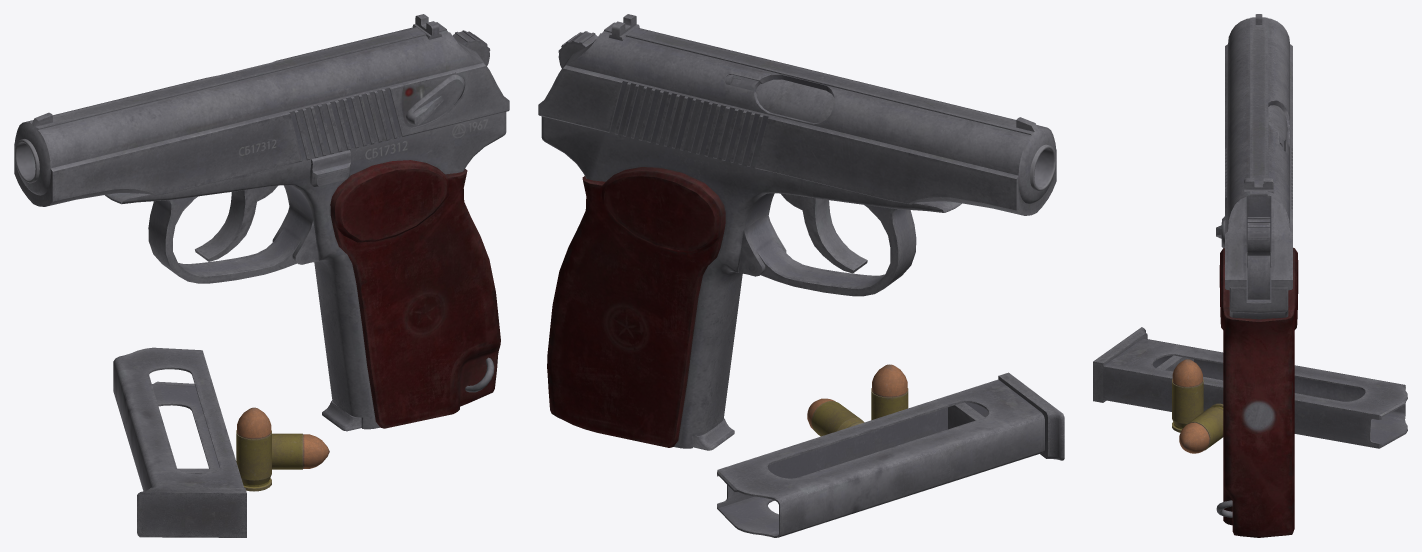
Rendered from pm_-_makarov_pistol.glb.
3 views of the same model, side by side, from view 1: azimuth 30°, elevation 25°; view 2: azimuth 150°, elevation 25°; view 3: azimuth 270°, elevation 25° (orthographic). The views are drawn at different scales.
Parts seen in each view (by area): view 1: Makarov_pistol, Makarov_pistol_bolt, Makarov_magazine_N, object 3, Makarov_trigger, object 2, Makarov_pistol_fuse, Makarov_gate_delay, Makarov_barrel_of_the_gun, Makarov_magazine, Makarov_descent; view 2: Makarov_pistol, Makarov_pistol_bolt, Makarov_magazine_N, Makarov_barrel_of_the_gun, Makarov_trigger, object 3, object 2, Makarov_magazine, Makarov_descent; view 3: Makarov_pistol, Makarov_pistol_bolt, Makarov_magazine_N, Makarov_descent, object 3, object 2, Makarov_barrel_of_the_gun.
Part boxes in pixels (x1,y1,x2,y2): Makarov_pistol: (105, 112, 506, 429); Makarov_pistol_bolt: (14, 14, 509, 206); Makarov_magazine_N: (113, 347, 246, 537); object 3: (236, 407, 271, 491); Makarov_trigger: (195, 185, 277, 261); object 2: (272, 433, 329, 469); Makarov_pistol_fuse: (406, 74, 465, 125); Makarov_gate_delay: (310, 150, 350, 186); Makarov_barrel_of_the_gun: (14, 139, 39, 183); Makarov_magazine: (322, 400, 361, 431); Makarov_descent: (452, 30, 490, 65); Makarov_pistol: (541, 116, 961, 448); Makarov_pistol_bolt: (538, 14, 1056, 215); Makarov_magazine_N: (717, 372, 1064, 537); Makarov_barrel_of_the_gun: (755, 79, 1056, 191); Makarov_trigger: (781, 193, 867, 273); object 3: (871, 364, 908, 420); object 2: (807, 398, 864, 436); Makarov_magazine: (693, 418, 734, 450); Makarov_descent: (558, 31, 597, 68); Makarov_pistol: (1216, 247, 1298, 537); Makarov_pistol_bolt: (1225, 14, 1292, 290); Makarov_magazine_N: (1093, 327, 1407, 448); Makarov_descent: (1247, 217, 1270, 299); object 3: (1172, 359, 1203, 432); object 2: (1179, 403, 1223, 453); Makarov_barrel_of_the_gun: (1268, 105, 1287, 141).
Size of the model in its own units: 156 by 123 by 103.
3 materials, 3 textured.
